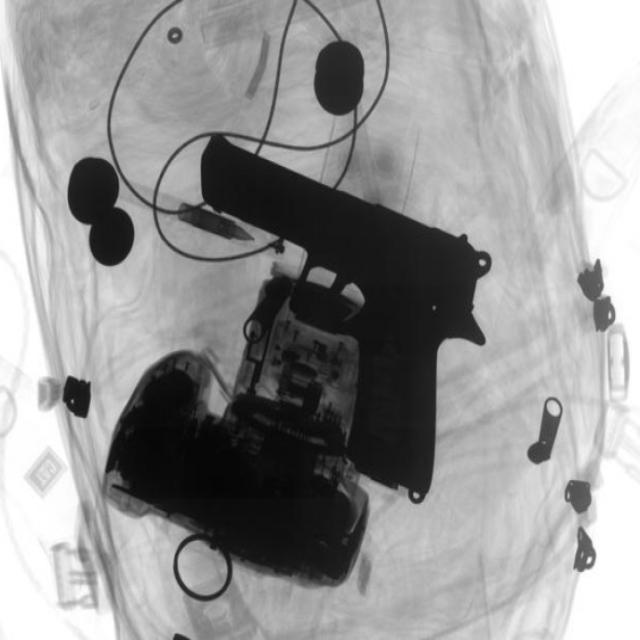GUN: (194, 126, 495, 463)
